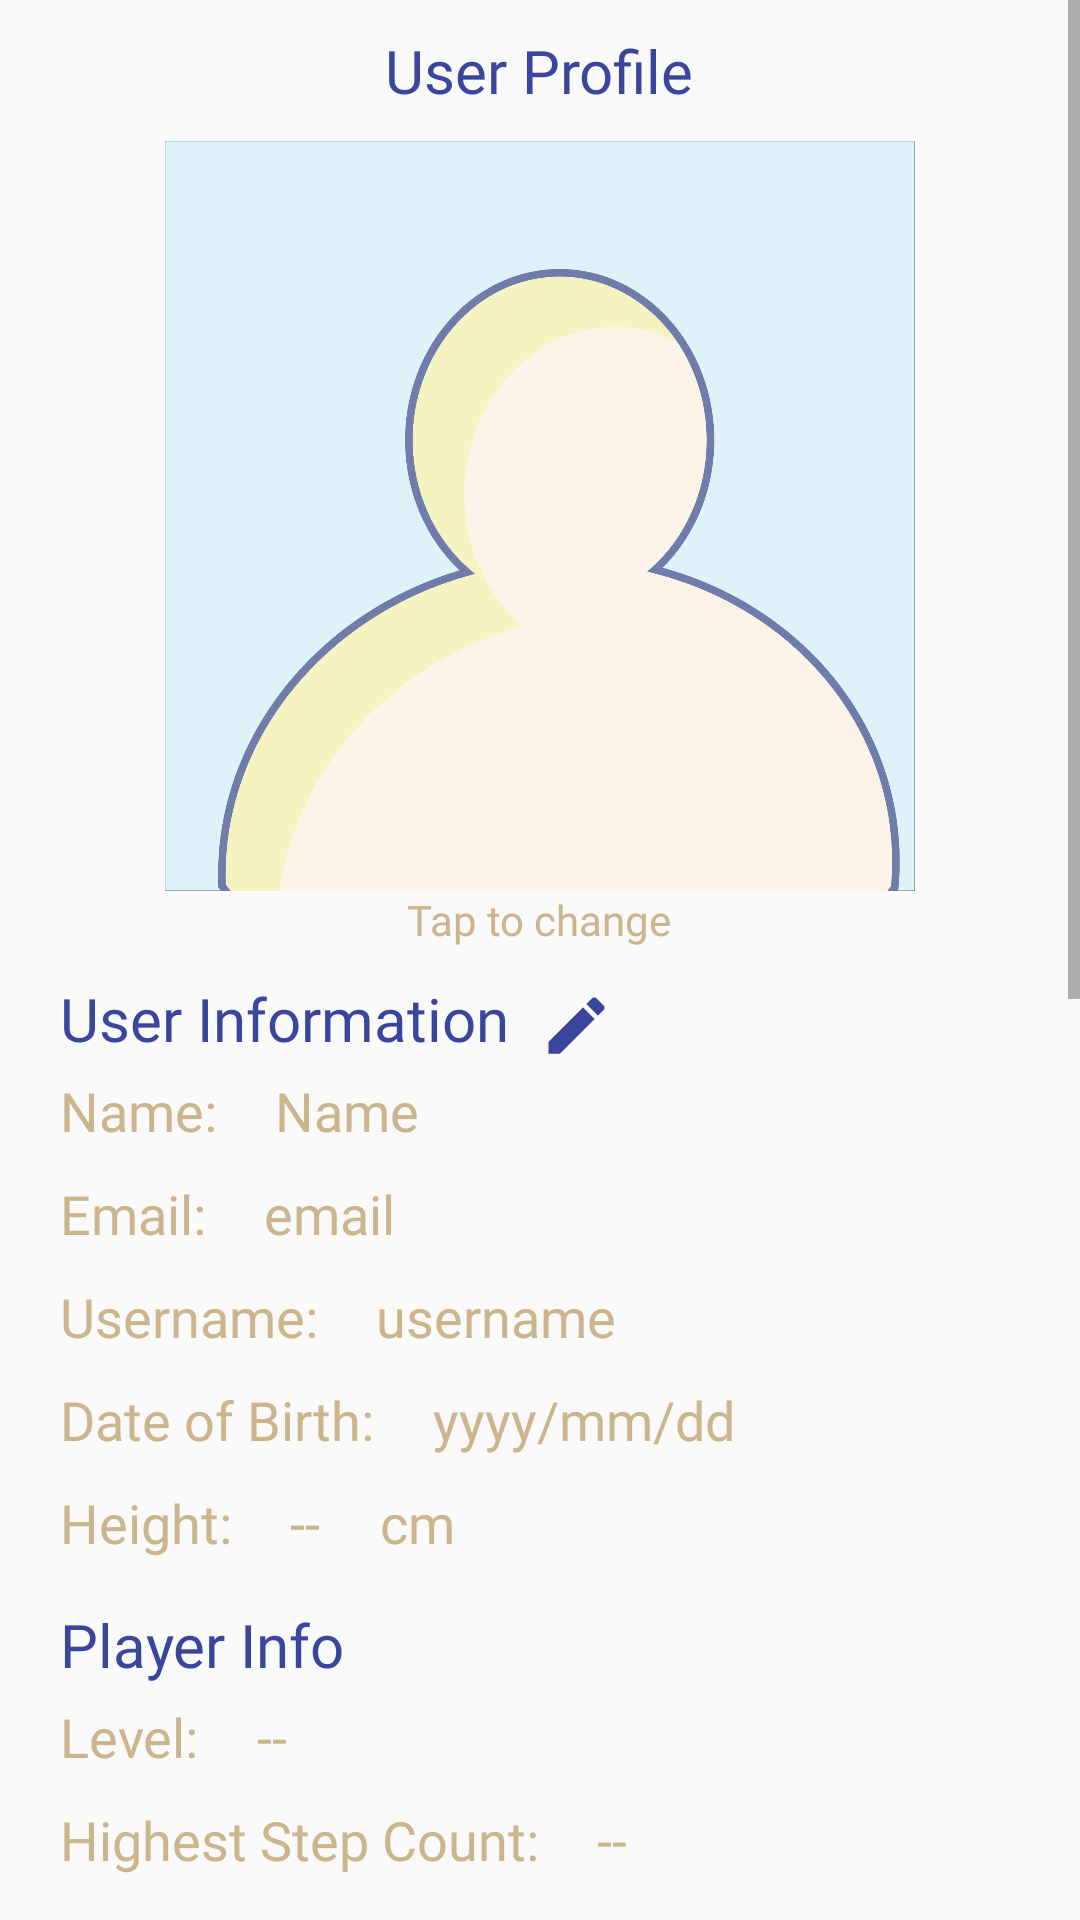

Named icons in this screenshot (1080x1920) and their bounding boxes, [x1=x1, y1=y1, x2=x2, y2=y2]:
edit: [x1=548, y1=997, x2=605, y2=1054]
